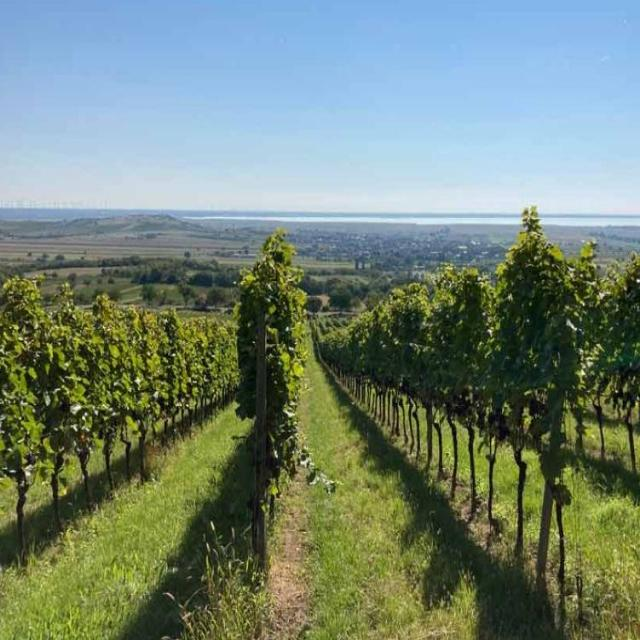row: (272, 321, 522, 629), (367, 385, 636, 632), (4, 394, 264, 633)
